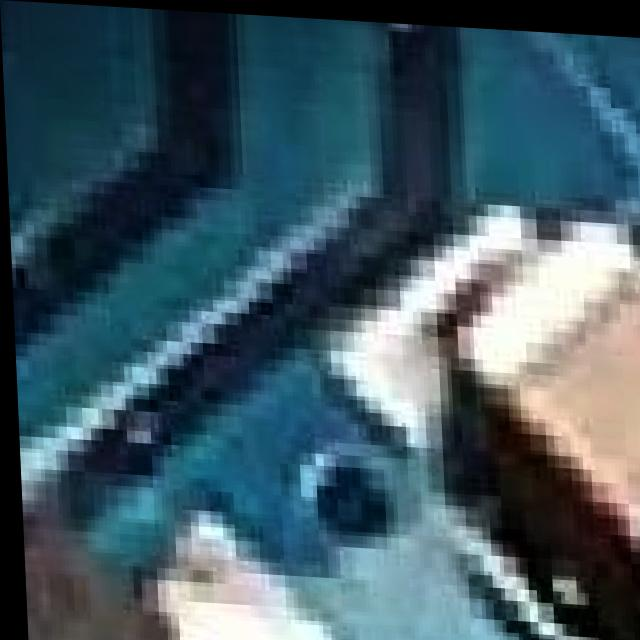capacitor: (471, 218, 640, 622)
transistor: (19, 536, 402, 640)
